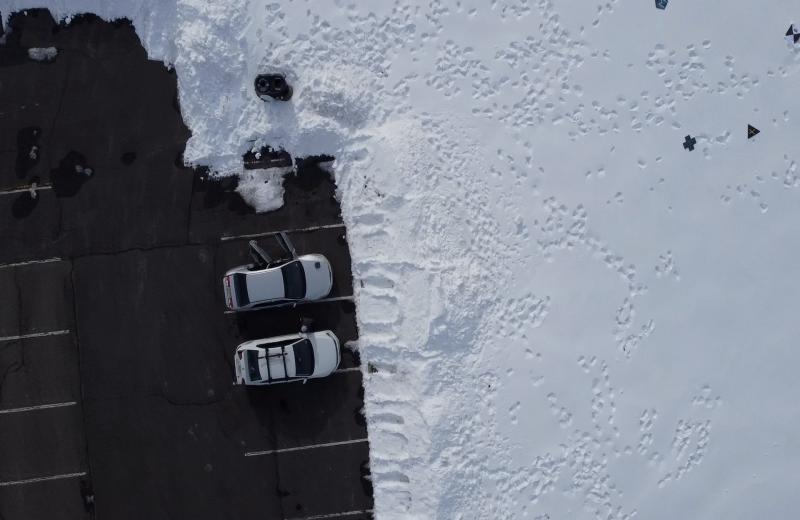Cross: (681, 134, 699, 153)
Pentagon: (654, 0, 670, 11)
Triangle: (745, 123, 760, 140)
